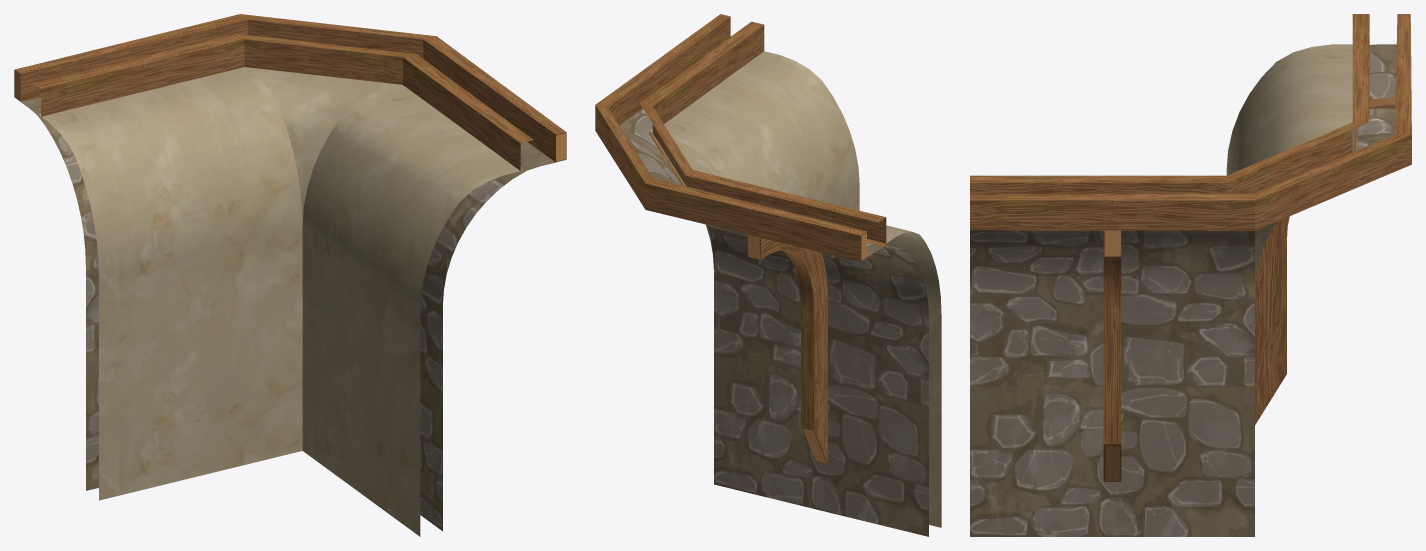
The model's file is overhang_unevenbrick_corner.glb.
3 renders of one model, left to right at view 1: azimuth 30°, elevation 25°; view 2: azimuth 150°, elevation 25°; view 3: azimuth 270°, elevation 25°, orthographic. The views are drawn at different scales.
Bounding box in the file's own units: 3.1 × 3.12 × 3.1.
Materials: 3 (3 with a texture image).
